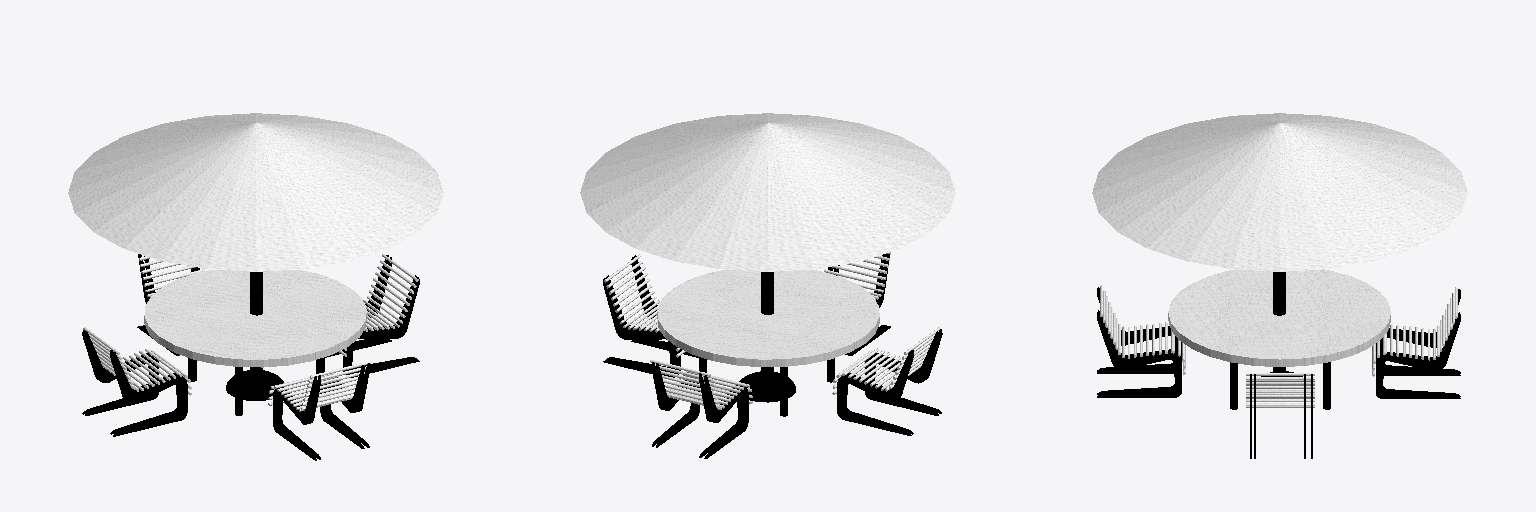
3 views of the same model, side by side, from view 1: azimuth 30°, elevation 25°; view 2: azimuth 150°, elevation 25°; view 3: azimuth 270°, elevation 25° (orthographic).
Visible parts, largest first — view 1: Cone001, Circle001, Cylinder034, Cylinder030, Line051, Cylinder033, Line056, Sphere001, Line060, Line018, Line058, Cylinder032 (+1 smaller); view 2: Cone001, Circle001, Cylinder035, Cylinder030, Cylinder033, Line019, Line057, Line065, Sphere001, Line017, Cylinder034, Line063 (+2 smaller); view 3: Cone001, Circle001, Cylinder033, Line061, Line064, Cylinder034, Cylinder035, Line059, Line062, Cylinder032.
Boxes of the visible parts, <box> form: Cone001: <box>68,113,443,271</box>; Circle001: <box>144,270,366,367</box>; Cylinder034: <box>268,361,370,411</box>; Cylinder030: <box>83,327,191,395</box>; Line051: <box>113,352,187,436</box>; Cylinder033: <box>339,254,418,356</box>; Line056: <box>345,277,419,377</box>; Sphere001: <box>226,370,283,400</box>; Line060: <box>273,376,316,460</box>; Line018: <box>85,331,158,415</box>; Line058: <box>320,365,364,448</box>; Cylinder032: <box>250,272,262,378</box>; Cone001: <box>580,113,955,271</box>; Circle001: <box>657,269,879,366</box>; Cylinder035: <box>650,360,752,409</box>; Cylinder030: <box>832,327,940,394</box>; Cylinder033: <box>604,254,685,357</box>; Line019: <box>837,351,911,435</box>; Line057: <box>603,278,677,377</box>; Line065: <box>704,375,748,458</box>; Sphere001: <box>739,371,795,402</box>; Line017: <box>865,331,938,415</box>; Cylinder034: <box>824,252,890,299</box>; Line063: <box>655,363,699,447</box>; Cone001: <box>1092,113,1467,271</box>; Circle001: <box>1168,269,1390,366</box>; Cylinder033: <box>1246,373,1314,407</box>; Line061: <box>1097,313,1181,397</box>; Line064: <box>1376,314,1460,398</box>; Cylinder034: <box>1100,285,1185,374</box>; Cylinder035: <box>1372,287,1457,376</box>; Line059: <box>1097,289,1181,373</box>; Line062: <box>1376,291,1460,375</box>; Cylinder032: <box>1273,272,1285,376</box>.
Size of the model in its own units: 28.02 by 21.96 by 28.02.
2 materials, 2 textured.